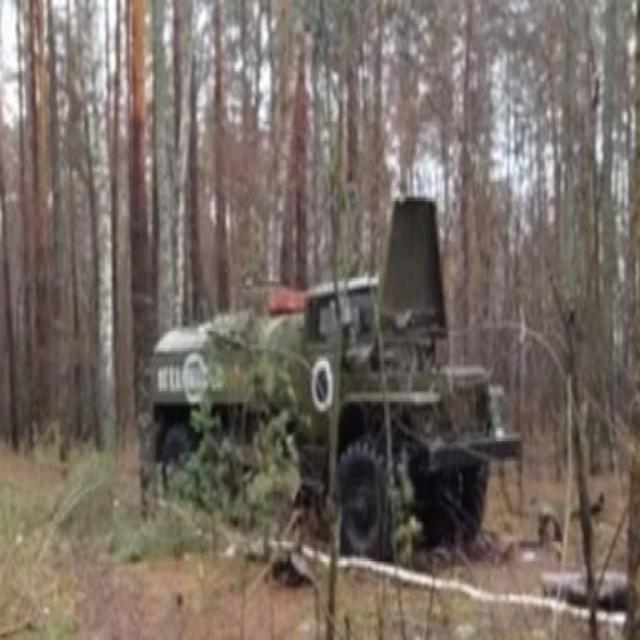TRUCK: (151, 272, 525, 564)
